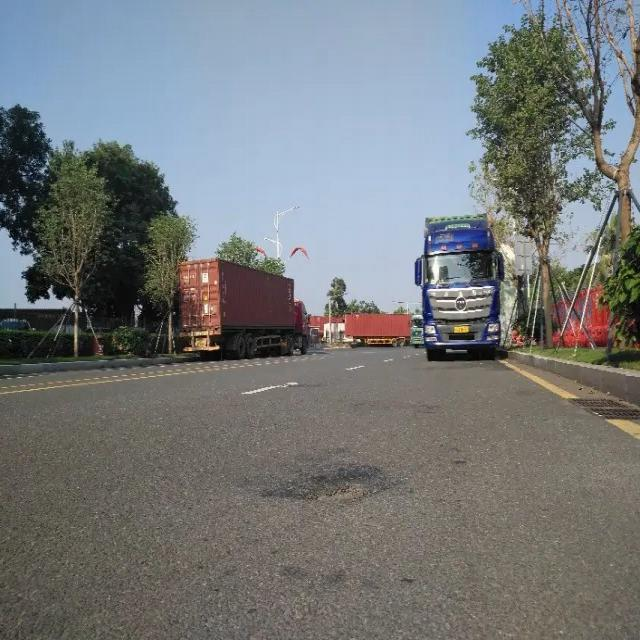pothole: (268, 473, 384, 510)
